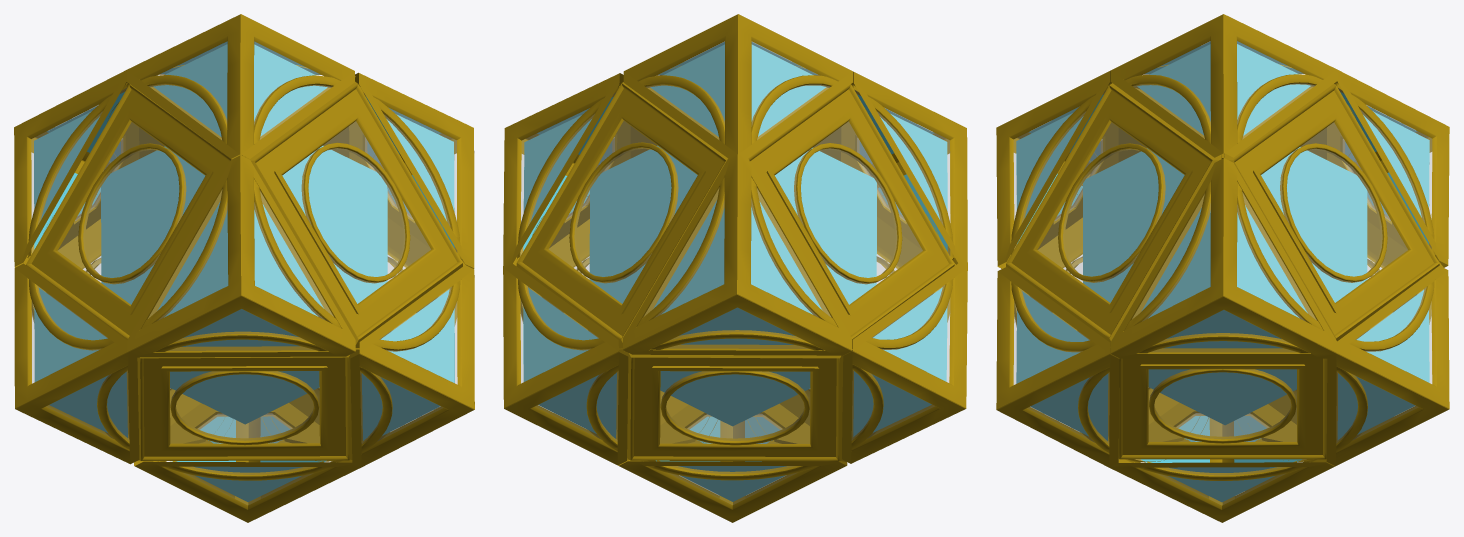
The model's file is JediHolo.glb.
3 renders of one model, left to right at view 1: azimuth 30°, elevation 25°; view 2: azimuth 150°, elevation 25°; view 3: azimuth 270°, elevation 25°, orthographic.
Parts seen in each view (by area): view 1: Cube.001, Cube, Cube.002; view 2: Cube.001, Cube, Cube.002; view 3: Cube.001, Cube, Cube.002.
Part boxes in pixels (<box>): Cube.001: <box>14,14,474,522</box>; Cube: <box>25,76,465,460</box>; Cube.002: <box>101,145,387,424</box>; Cube.001: <box>503,14,967,522</box>; Cube: <box>514,75,955,461</box>; Cube.002: <box>589,145,876,426</box>; Cube.001: <box>996,14,1449,522</box>; Cube: <box>1001,83,1443,459</box>; Cube.002: <box>1083,147,1367,425</box>.
Size of the model in its own units: 5.23 by 5.54 by 4.5.
